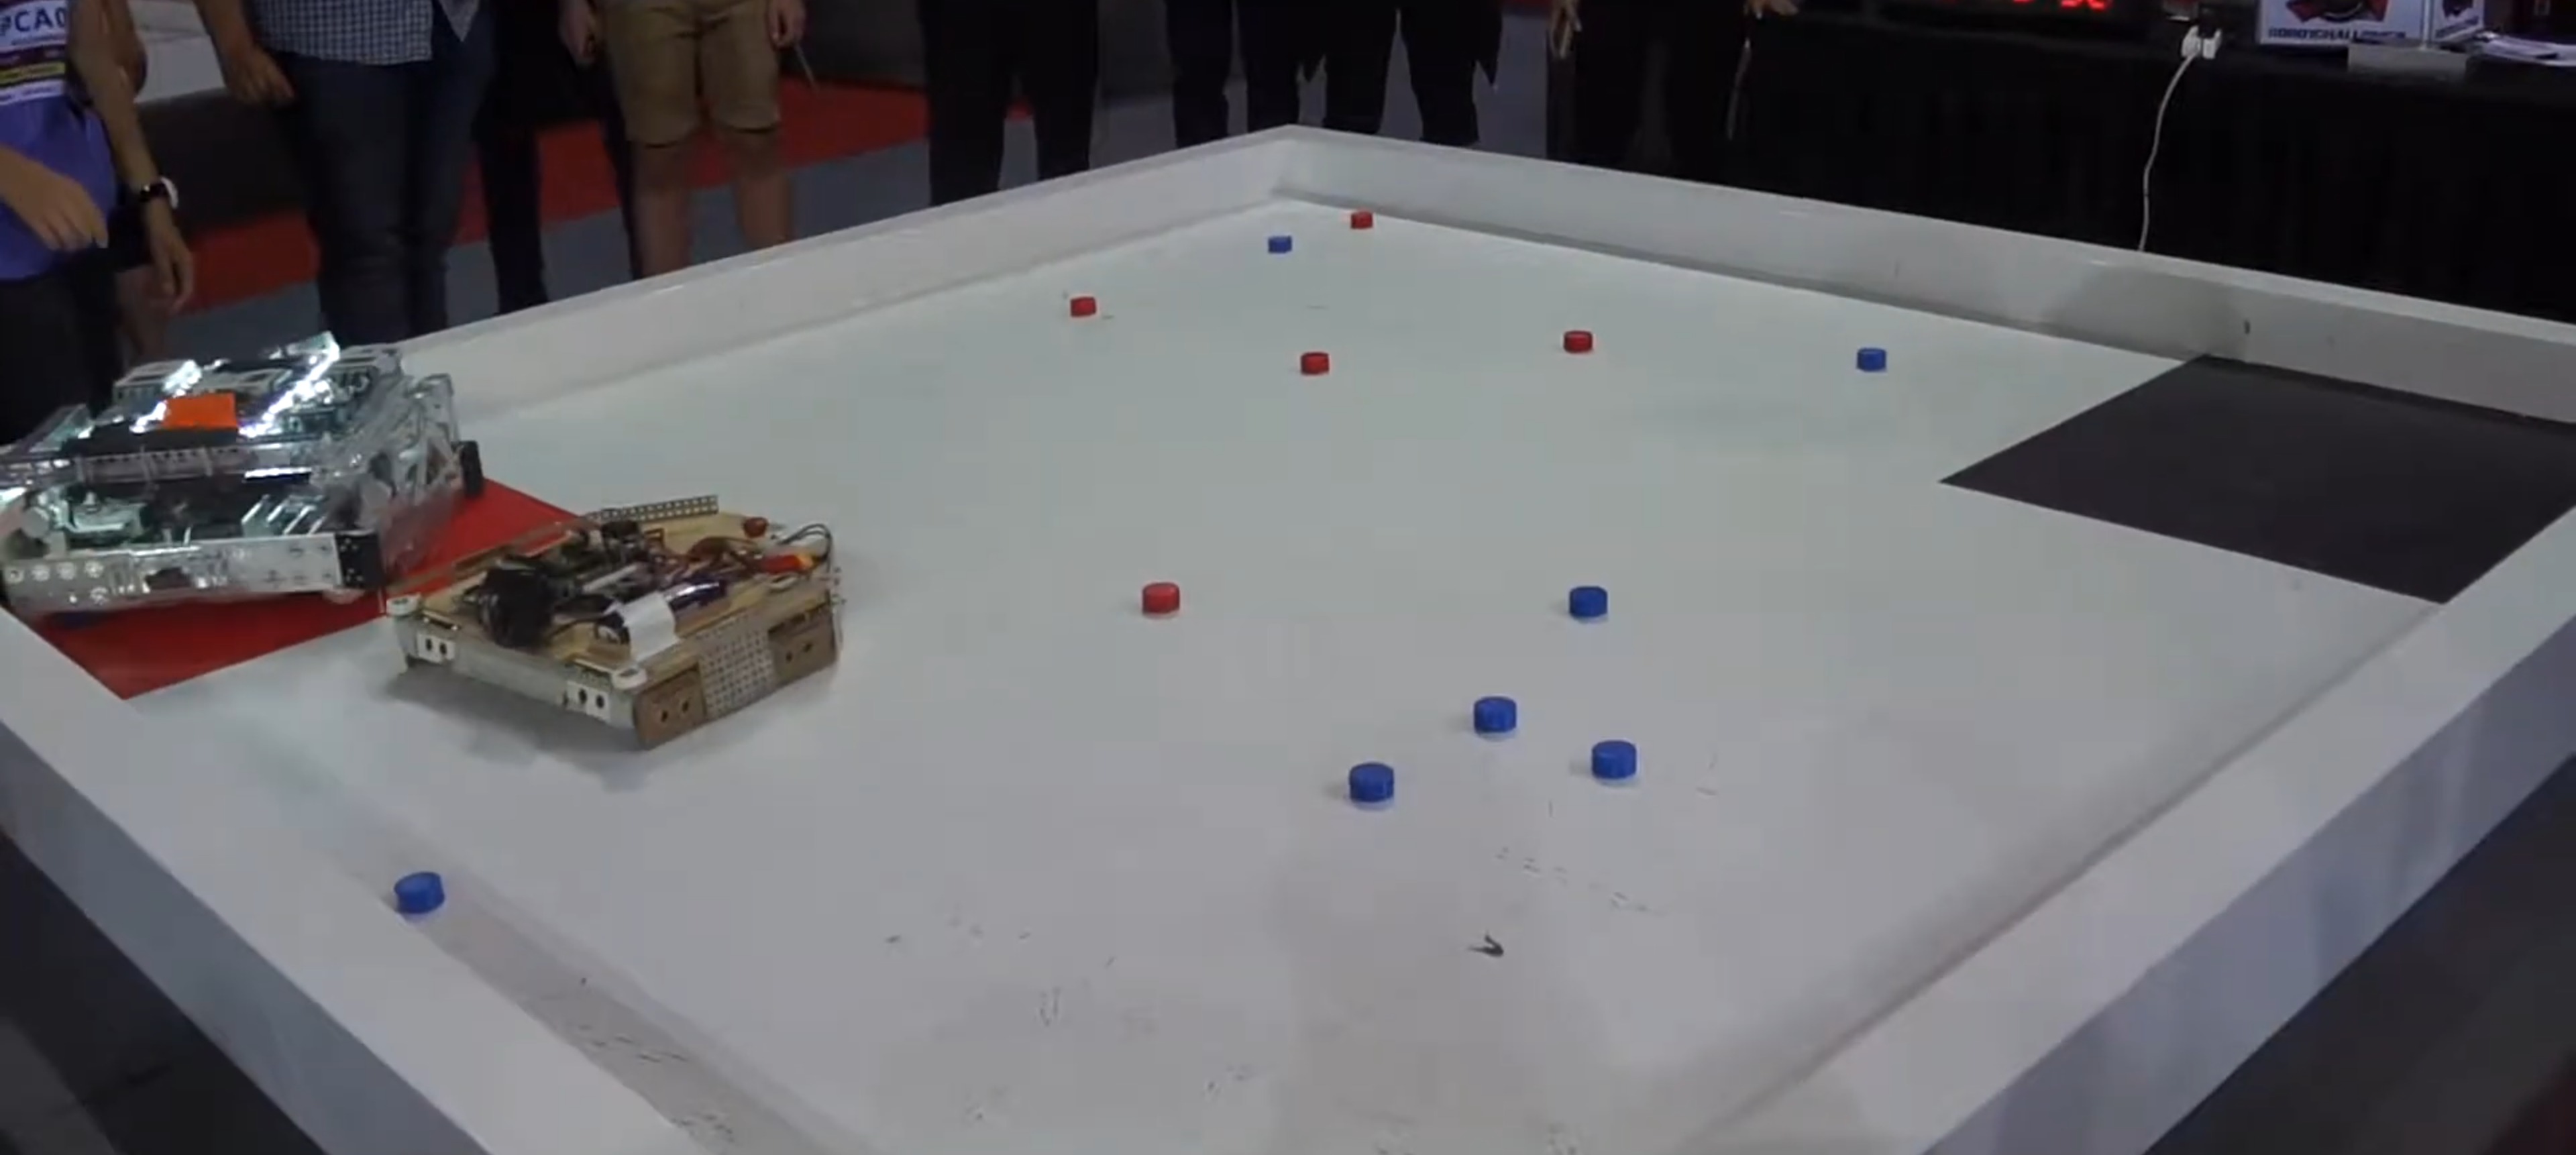blue_base: (1940, 353, 2571, 606)
blue_puck: (1587, 734, 1643, 787), (1347, 757, 1398, 807), (1474, 695, 1518, 736), (394, 871, 440, 907), (1569, 585, 1607, 621), (1855, 345, 1891, 378), (1267, 233, 1291, 256)
red_puck: (1138, 578, 1184, 613), (1296, 348, 1329, 378), (1561, 330, 1595, 355), (1347, 209, 1377, 232), (1069, 294, 1092, 319)
